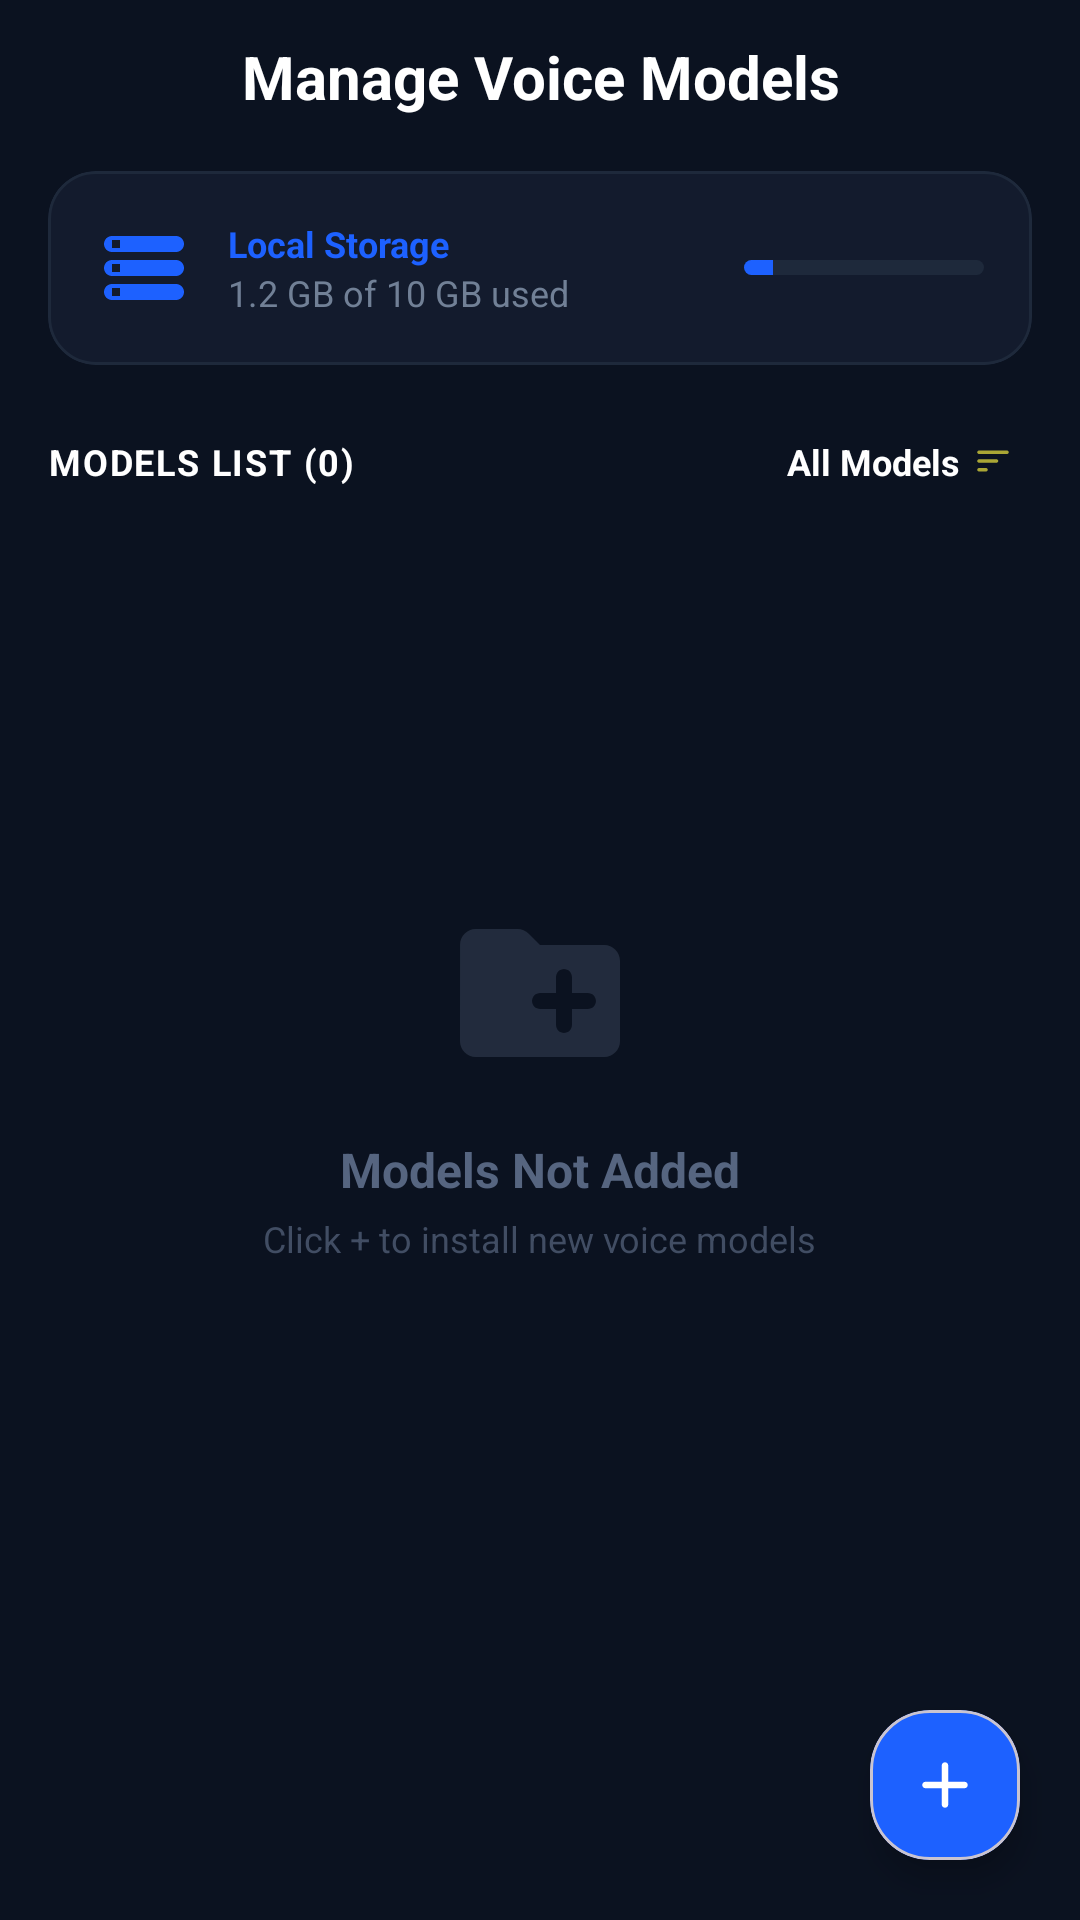

Icon click points for this 1080*1920 phone screenshot, format (x=x, y=y):
add: (x=945, y=1785)
add folder: (x=540, y=993)
sort: (x=993, y=461)
